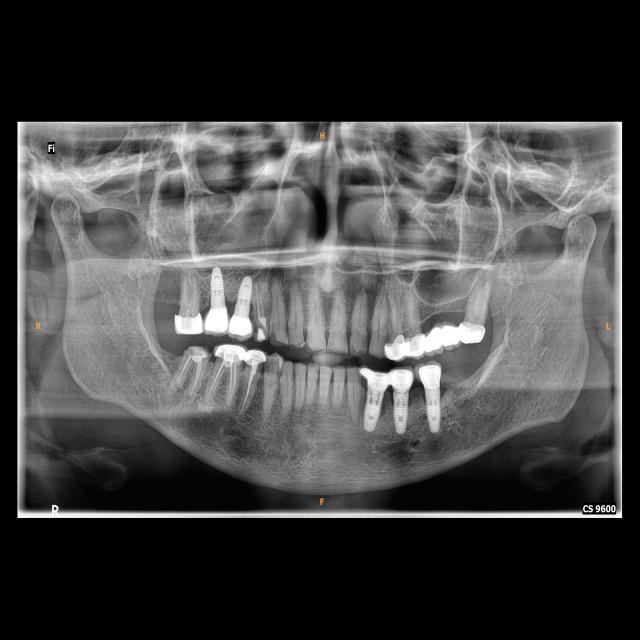dentin-curugu: (263, 362, 276, 374)
dolgu: (184, 344, 212, 360), (257, 321, 268, 341)
implant: (386, 364, 414, 433), (418, 362, 445, 431), (362, 368, 391, 432), (228, 276, 254, 336), (206, 266, 228, 334)
kanal-tedavisi: (209, 362, 237, 398), (176, 358, 201, 393), (243, 370, 256, 410), (255, 288, 265, 318)
kaplama: (215, 342, 246, 363), (174, 314, 203, 335), (461, 321, 486, 344), (403, 335, 428, 356), (384, 335, 405, 359), (244, 348, 265, 368)
kok-enfeksiyonu: (383, 436, 424, 464)
kopru: (417, 324, 469, 354)
